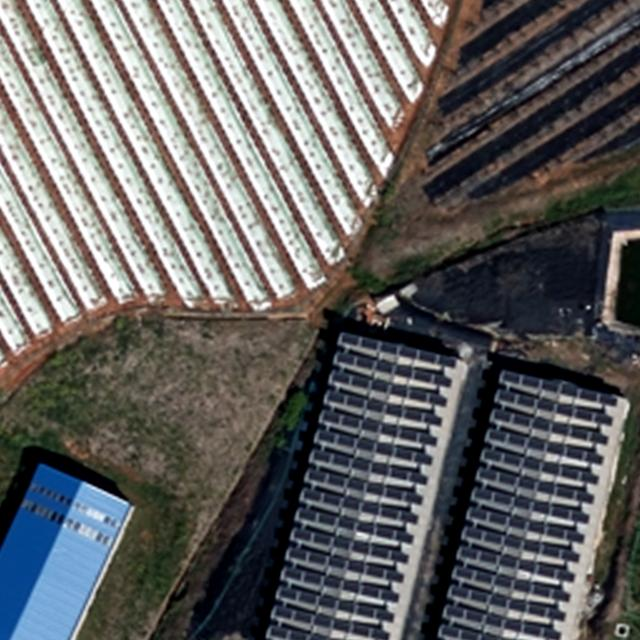panel: (327, 387, 443, 430), (473, 486, 589, 528), (298, 505, 415, 546), (470, 504, 587, 545), (449, 583, 565, 624), (492, 406, 610, 446), (338, 330, 459, 369), (336, 349, 453, 389), (477, 466, 594, 506), (462, 524, 581, 563), (331, 368, 447, 408), (321, 408, 437, 448), (303, 485, 419, 525), (307, 467, 425, 506), (288, 546, 406, 585), (317, 429, 434, 468), (311, 449, 428, 488), (293, 527, 410, 566), (453, 564, 567, 604), (460, 544, 574, 584), (285, 566, 401, 605), (482, 447, 598, 486), (501, 369, 617, 407), (444, 602, 563, 639), (279, 585, 394, 623), (497, 388, 612, 426), (487, 428, 604, 465), (274, 604, 389, 640), (436, 622, 495, 640), (271, 623, 323, 640)
